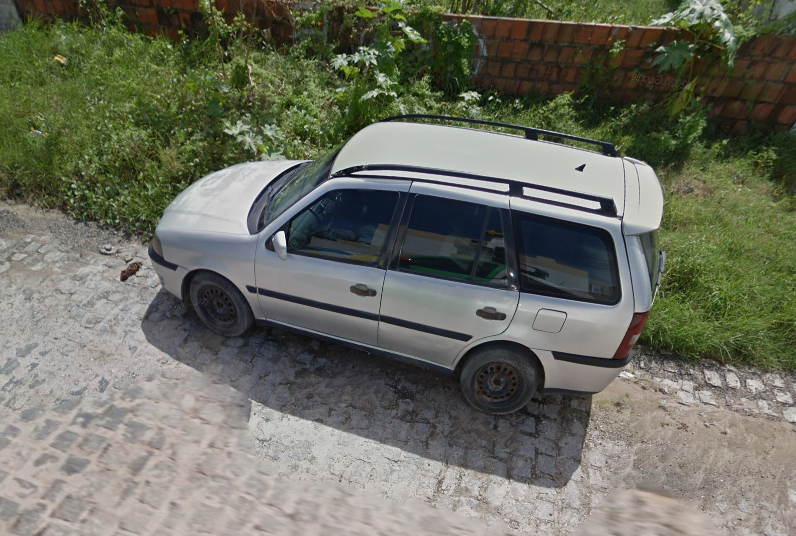car: (145, 110, 672, 420)
